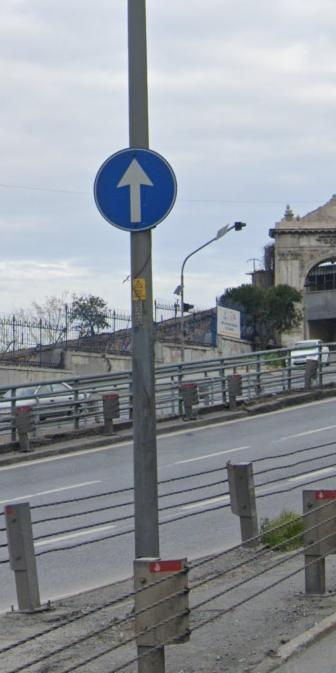forward: (91, 147, 188, 234)
